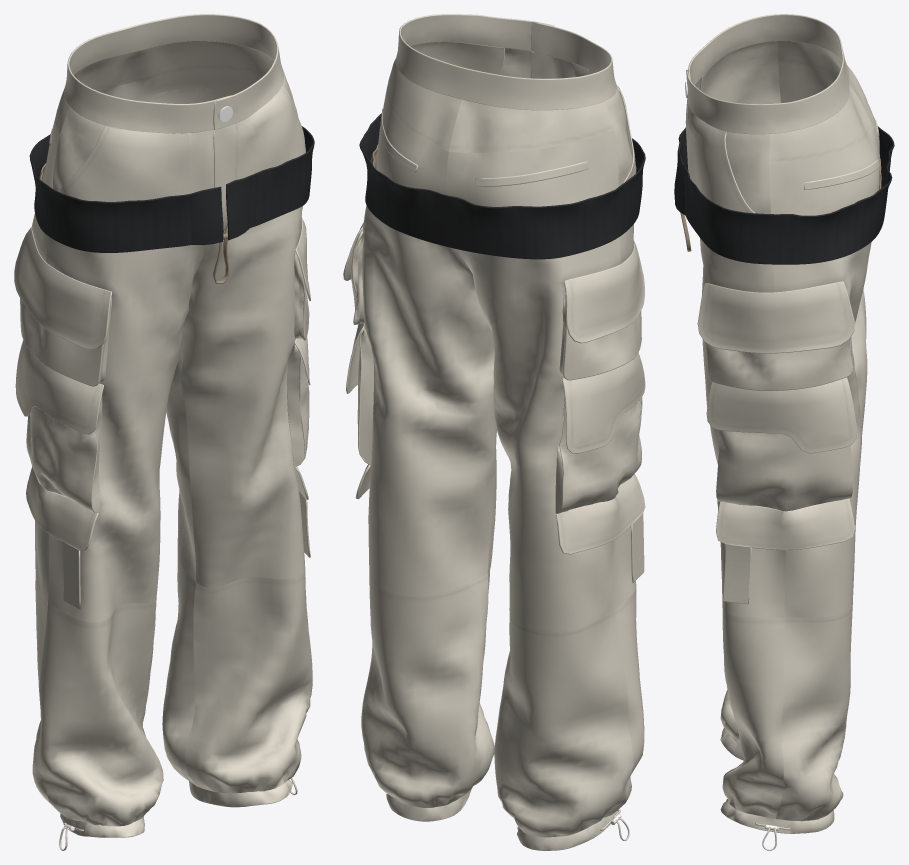
The model's file is pants_cargo.obj.
The picture shows the model from 3 angles, left to right: view 1: azimuth 30°, elevation 25°; view 2: azimuth 150°, elevation 25°; view 3: azimuth 270°, elevation 25°; orthographic projection. The views are drawn at different scales.
Visible parts, largest first — view 1: 版片77_1_1 Symmetry 3_2_1_front, 版片148_front, 版片77_1_1 Symmetry 3_2_2_front, 版片77_1_1 Symmetry 2_2_2_2_front, noname_2_2_front, 版片294_front, 版片77_1_1 Symmetry 1_1_1_2_1_front, 版片127 里布 1 对称 1_front, 版片104_1_2 对称 1_front, 版片77_1_1 Symmetry 1_1_1_2_2_front, 版片130 里布 1 对称 1_front, noname 对称 4_1_front (+15 smaller); view 2: 版片77_1_1 Symmetry 1_1_1_2_1_front, 版片77_1_1 Symmetry 2_2_1_front, 版片77_1_1 Symmetry 2_2_2_front, 版片77_1_1 Symmetry 1_1_1_2_2_front, 版片294_front, noname_2_2_front, noname 对称 4_1 Symmetry 1_front, 版片104_1_2 对称 1_front, 版片130 里布 1 对称 1_front, 版片127 里布 1 对称 1_front, 版片133 里布 1 对称 1_front, noname 对称 4_1_front (+13 smaller); view 3: 版片77_1_1 Symmetry 1_1_1_2_1_front, 版片77_1_1 Symmetry 1_1_1_2_2_front, 版片294_front, 版片77_1_1 Symmetry 3_2_2_front, 版片77_1_1 Symmetry 3_2_1_front, 版片127 里布 1_front, noname_2_2_front, 版片104_1_2_front, 版片130 里布 1_front, 版片133 里布 1_front, 版片104_2_front, noname 对称 5_front (+10 smaller).
Boxes of the visible parts, box(x1,y1,x2,y2) form: 版片77_1_1 Symmetry 3_2_1_front: box(181, 86, 305, 588); 版片148_front: box(46, 126, 213, 622); 版片77_1_1 Symmetry 3_2_2_front: box(185, 570, 312, 793); 版片77_1_1 Symmetry 2_2_2_2_front: box(37, 597, 163, 826); noname_2_2_front: box(64, 14, 283, 133); 版片294_front: box(29, 126, 314, 252); 版片77_1_1 Symmetry 1_1_1_2_1_front: box(124, 69, 262, 581); 版片127 里布 1 对称 1_front: box(14, 227, 111, 349); 版片104_1_2 对称 1_front: box(26, 405, 100, 512); 版片77_1_1 Symmetry 1_1_1_2_2_front: box(162, 558, 206, 789); 版片130 里布 1 对称 1_front: box(15, 340, 103, 434); noname 对称 4_1_front: box(125, 41, 274, 83); 版片77_1_1 Symmetry 1_1_1_2_1_front: box(362, 89, 496, 595); 版片77_1_1 Symmetry 2_2_1_front: box(445, 130, 620, 631); 版片77_1_1 Symmetry 2_2_2_front: box(494, 609, 633, 837); 版片77_1_1 Symmetry 1_1_1_2_2_front: box(361, 573, 488, 807); 版片294_front: box(359, 113, 645, 259); noname_2_2_front: box(395, 14, 616, 110); noname 对称 4_1 Symmetry 1_front: box(448, 99, 614, 152); 版片104_1_2 对称 1_front: box(557, 390, 642, 513); 版片130 里布 1 对称 1_front: box(562, 353, 645, 453); 版片127 里布 1 对称 1_front: box(564, 240, 644, 343); 版片133 里布 1 对称 1_front: box(556, 473, 645, 554); noname 对称 4_1_front: box(386, 58, 461, 151); 版片77_1_1 Symmetry 1_1_1_2_1_front: box(769, 127, 879, 617); 版片77_1_1 Symmetry 1_1_1_2_2_front: box(775, 604, 852, 821); 版片294_front: box(679, 126, 894, 264); 版片77_1_1 Symmetry 3_2_2_front: box(722, 611, 784, 818); 版片77_1_1 Symmetry 3_2_1_front: box(685, 99, 785, 617); 版片127 里布 1_front: box(697, 281, 854, 353); noname_2_2_front: box(686, 14, 849, 134); 版片104_1_2_front: box(716, 430, 852, 511); 版片130 里布 1_front: box(706, 377, 857, 453); 版片133 里布 1_front: box(716, 498, 854, 550); 版片104_2_front: box(706, 338, 853, 390); noname 对称 5_front: box(699, 41, 780, 104).
Size of the model in its own units: 401 by 1094 by 295.
9 materials, 1 textured.
